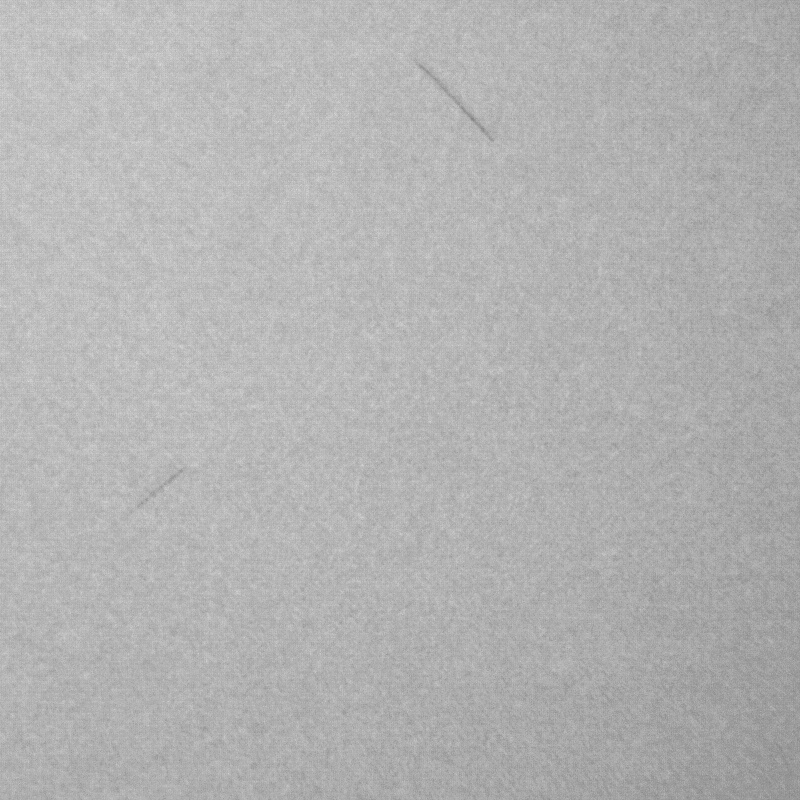defect: (411, 51, 502, 148), (107, 467, 187, 528)
